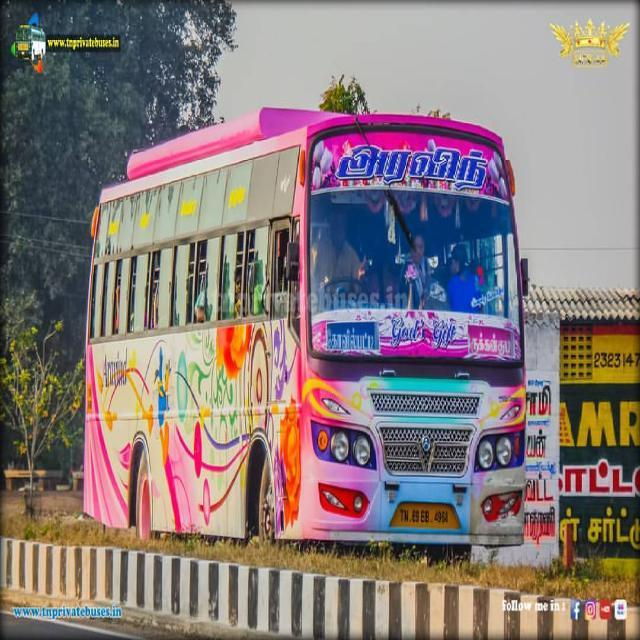Bus: (81, 107, 532, 553)
